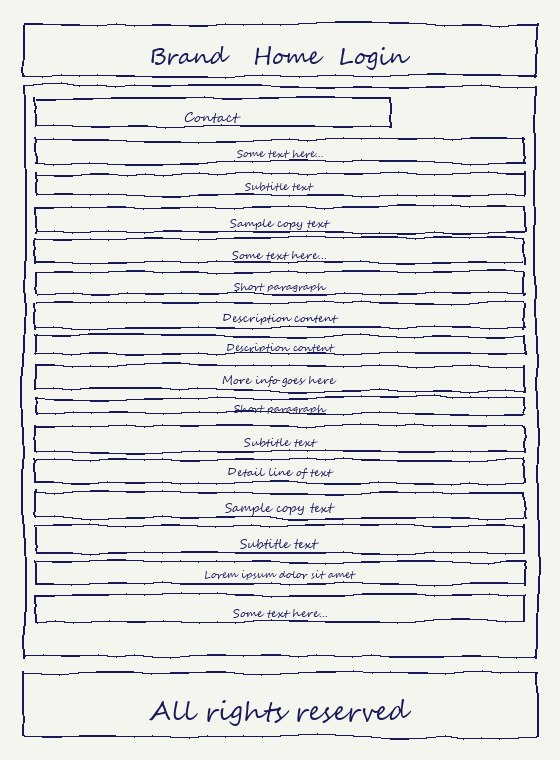card: (36, 491, 524, 518), (36, 526, 524, 553), (36, 207, 524, 233), (36, 303, 524, 329), (36, 365, 524, 391), (36, 426, 524, 452), (36, 596, 524, 622), (36, 239, 524, 264), (36, 458, 524, 483), (36, 139, 524, 163), (36, 272, 524, 295), (36, 561, 524, 584), (36, 173, 524, 195), (36, 98, 389, 127), (36, 335, 524, 354), (36, 397, 524, 415)
footer: (24, 672, 536, 736)
navbar: (24, 24, 536, 77)
section: (24, 86, 536, 657)
